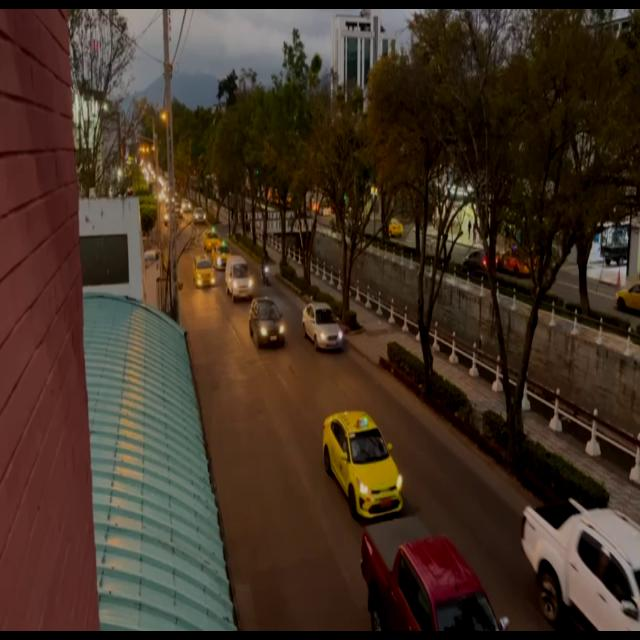CMT: (365, 518, 508, 635), (524, 507, 638, 640)
SED: (323, 412, 405, 520), (301, 301, 345, 352), (249, 299, 287, 351), (194, 256, 216, 288)
SUV: (227, 254, 254, 298)
